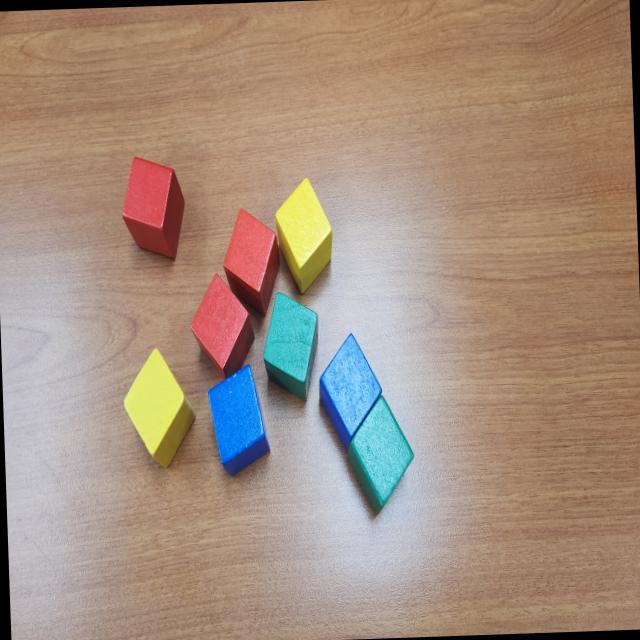blue: (316, 332, 384, 452), (207, 362, 270, 476)
green: (344, 394, 416, 518), (260, 289, 322, 403)
red: (189, 273, 256, 381), (120, 155, 187, 261), (221, 208, 282, 318)
yellow: (121, 346, 196, 468), (272, 178, 334, 294)
